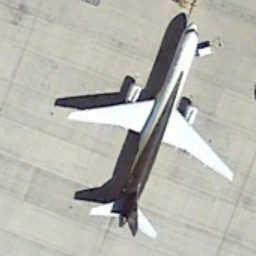Airplane: (61, 17, 238, 244)
